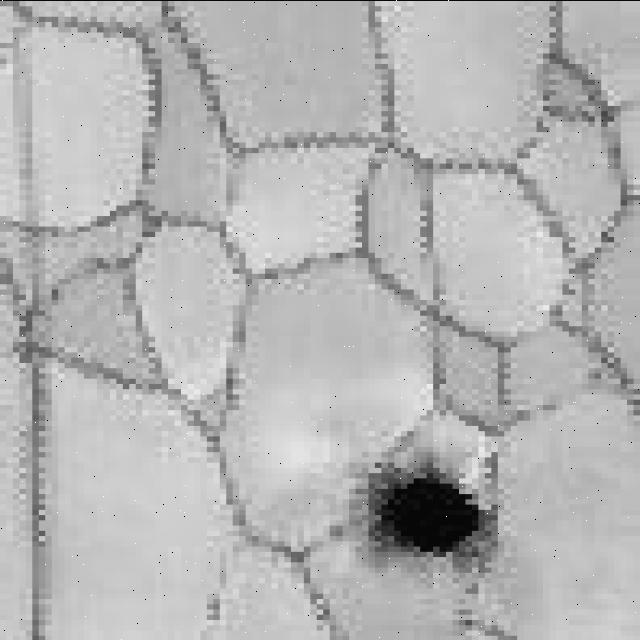good_void: (331, 447, 501, 575)
